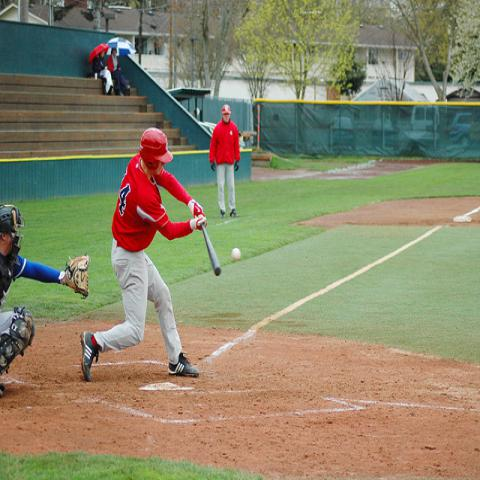car: (448, 113, 480, 152), (410, 106, 440, 142), (327, 117, 358, 150), (370, 118, 394, 148)
